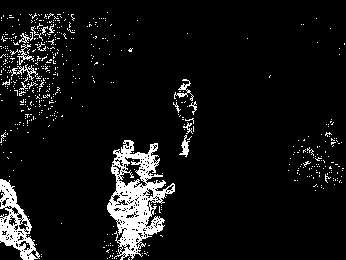person: (170, 77, 199, 159)
